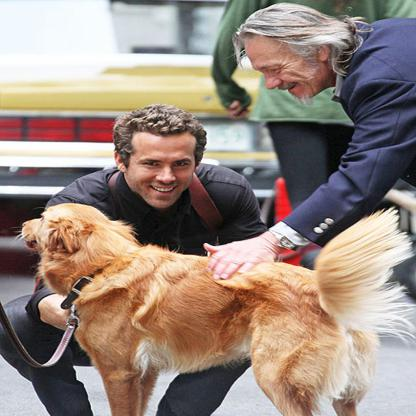face: (131, 134, 196, 208), (246, 36, 319, 101)
